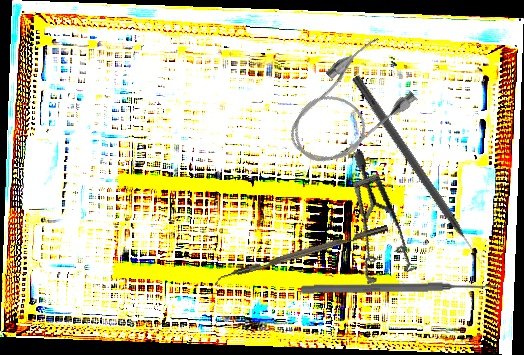Cannula: (270, 31, 426, 181)
Chopper: (211, 224, 392, 290)
Hook Surgical: (349, 73, 487, 269)
Pusher: (300, 280, 499, 296)
Speculum: (316, 149, 446, 297)
